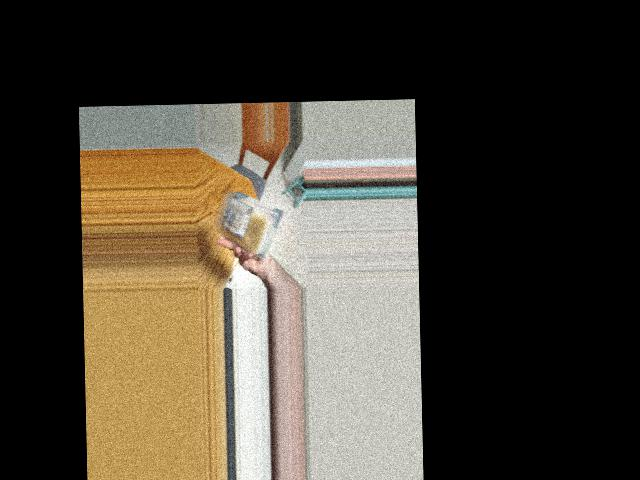cheese: (218, 190, 283, 243)
